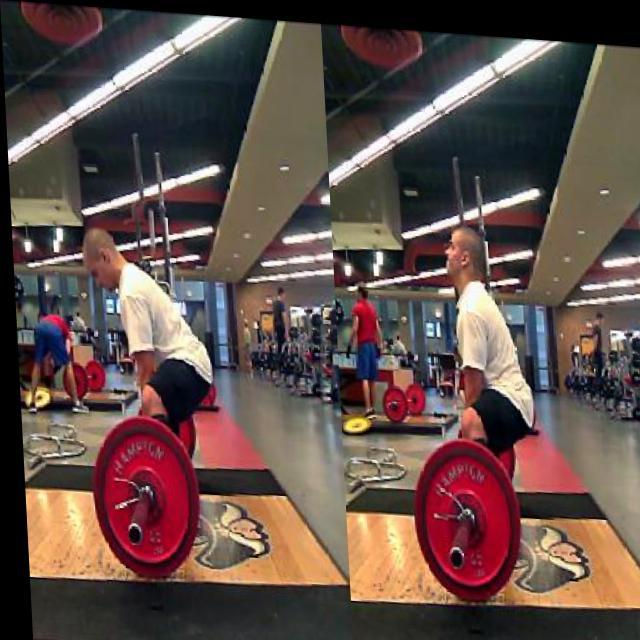barbell: (398, 417, 523, 606), (85, 407, 200, 590), (384, 395, 389, 405)
